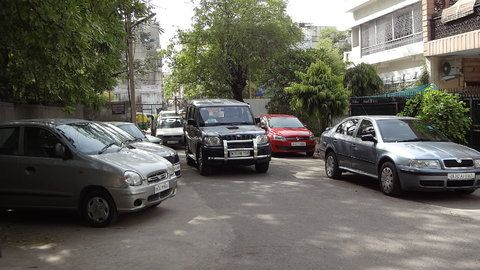car: (2, 116, 185, 229), (321, 114, 480, 206), (182, 99, 273, 175), (258, 111, 316, 162), (155, 116, 191, 145)
